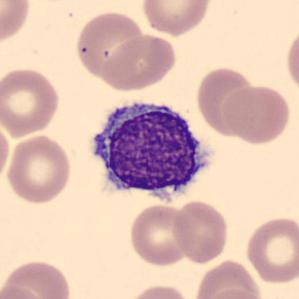Lymphocyte: (81, 93, 220, 211)
RBC: (73, 9, 146, 83), (4, 133, 74, 205), (194, 64, 259, 138), (220, 82, 293, 146), (101, 33, 178, 92), (0, 65, 62, 138), (127, 202, 193, 268), (243, 214, 298, 285), (171, 198, 230, 264), (2, 257, 74, 299), (193, 258, 265, 299), (139, 0, 214, 37), (0, 0, 32, 47), (124, 282, 194, 299), (283, 26, 299, 96), (203, 286, 267, 299), (0, 119, 12, 185), (0, 282, 46, 299)
